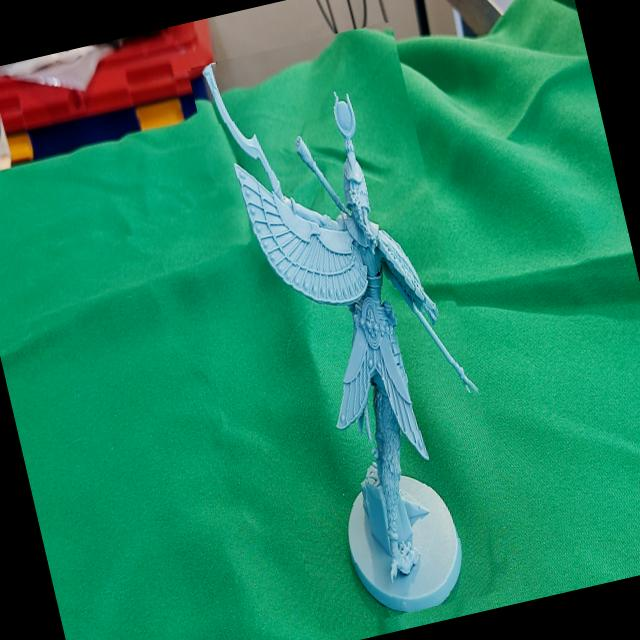isis: (188, 20, 524, 633)
